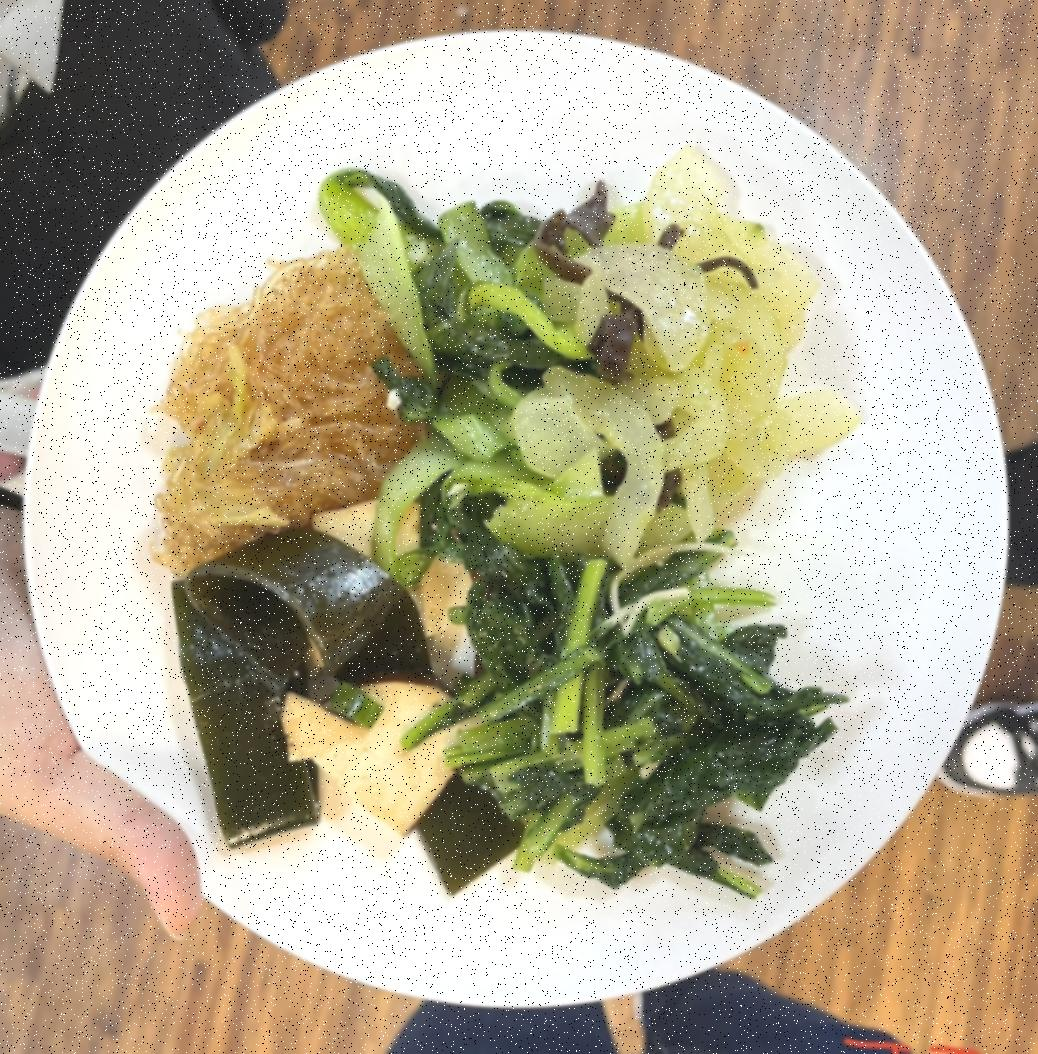plate: (17, 10, 1012, 1015)
side dish: (461, 528, 820, 900), (170, 538, 495, 890), (559, 150, 832, 548), (338, 163, 562, 542), (151, 261, 405, 550)
